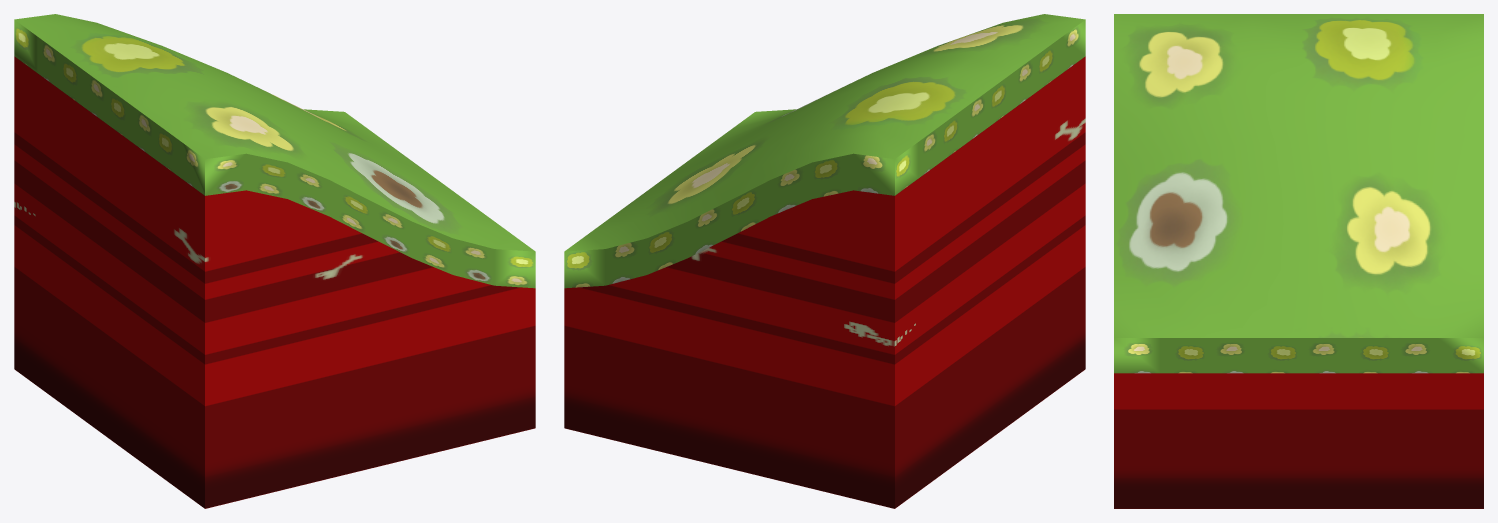
File: block_rect_curved_hill_1x1.obj
The picture shows the model from 3 angles, left to right: view 1: azimuth 30°, elevation 25°; view 2: azimuth 150°, elevation 25°; view 3: azimuth 270°, elevation 25°; orthographic projection. The views are drawn at different scales.
Visible parts, largest first — view 1: block_rect_1x1:Mesh polySurface3 polySurface1, polySurface2 block_rect_1x1:Mesh, block_rect_1x1:Mesh polySurface1 polySurface4; view 2: block_rect_1x1:Mesh polySurface3 polySurface1, polySurface2 block_rect_1x1:Mesh, block_rect_1x1:Mesh polySurface1 polySurface4; view 3: polySurface2 block_rect_1x1:Mesh, block_rect_1x1:Mesh polySurface3 polySurface1, block_rect_1x1:Mesh polySurface1 polySurface4.
Part boxes in pixels (left/top/right/bottom): block_rect_1x1:Mesh polySurface3 polySurface1: left=14, top=56, right=535, bottom=508; polySurface2 block_rect_1x1:Mesh: left=14, top=14, right=535, bottom=251; block_rect_1x1:Mesh polySurface1 polySurface4: left=14, top=20, right=535, bottom=288; block_rect_1x1:Mesh polySurface3 polySurface1: left=564, top=56, right=1085, bottom=508; polySurface2 block_rect_1x1:Mesh: left=564, top=14, right=1085, bottom=251; block_rect_1x1:Mesh polySurface1 polySurface4: left=564, top=20, right=1085, bottom=288; polySurface2 block_rect_1x1:Mesh: left=1114, top=14, right=1483, bottom=337; block_rect_1x1:Mesh polySurface3 polySurface1: left=1114, top=373, right=1483, bottom=508; block_rect_1x1:Mesh polySurface1 polySurface4: left=1114, top=338, right=1483, bottom=373.
Size of the model in its own units: 100 by 102 by 100.
